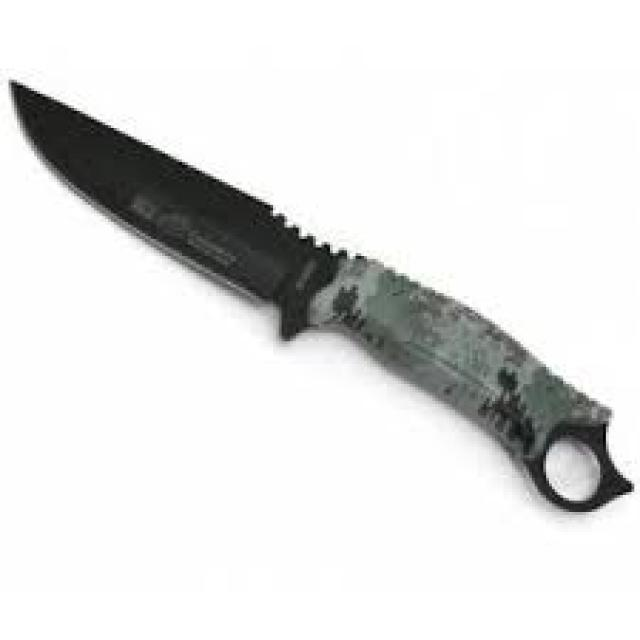knife: (10, 77, 636, 523)
